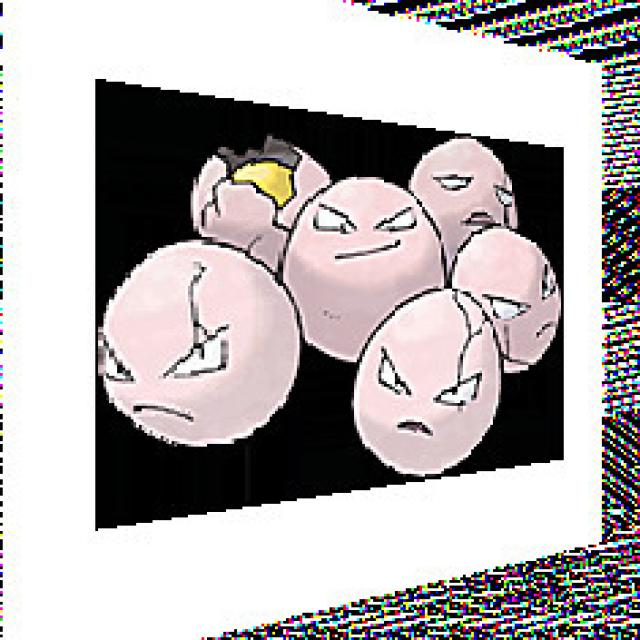Exeggcute: (103, 101, 568, 484)
